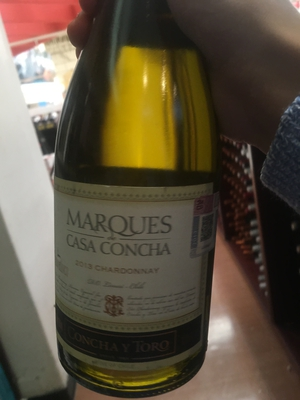marques de casa concha chardonnay: (49, 20, 222, 383)
